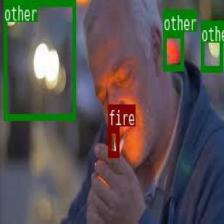fire: (108, 125, 119, 156)
